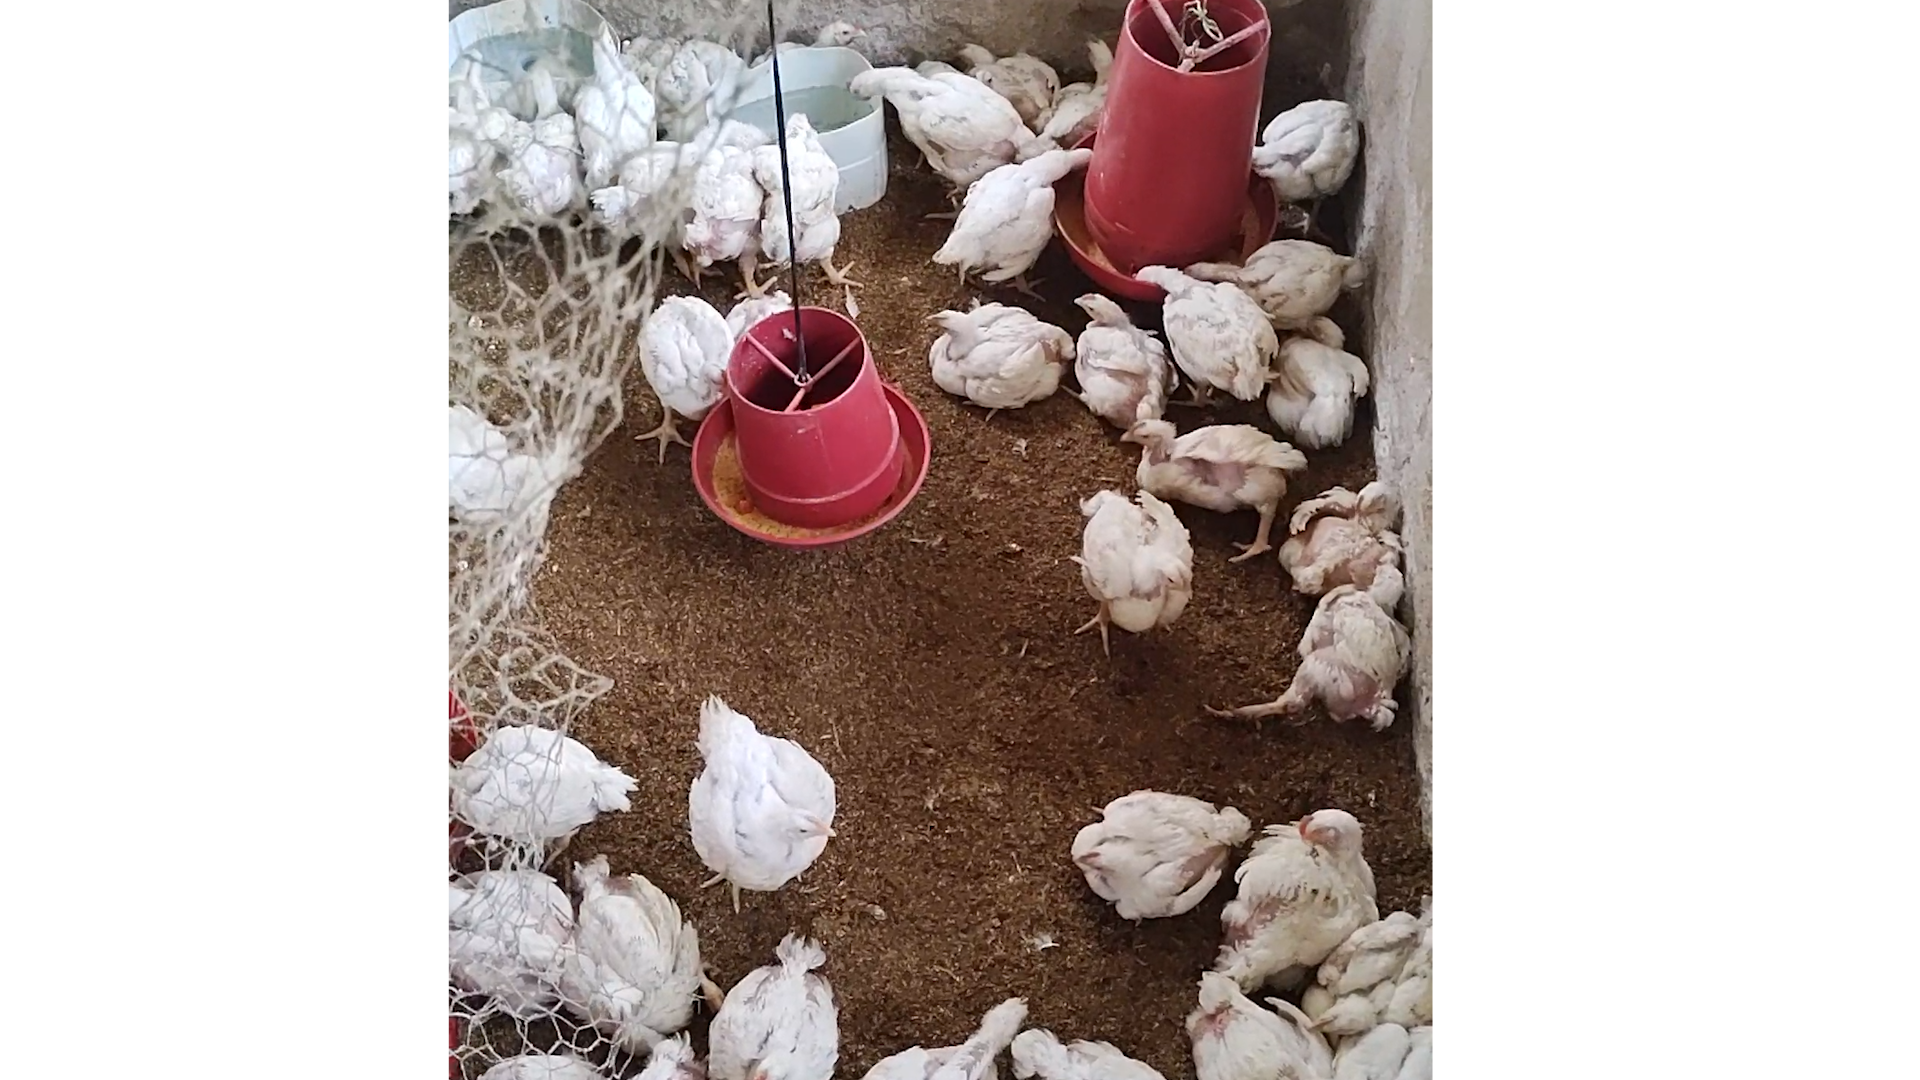Pollos: (1212, 567, 1414, 748), (694, 684, 837, 905), (1060, 782, 1246, 928), (562, 858, 716, 1034), (442, 719, 637, 857), (928, 136, 1100, 291), (1221, 796, 1373, 952), (1112, 402, 1294, 529), (1060, 488, 1200, 651), (837, 62, 1025, 183), (705, 916, 843, 1080), (756, 111, 876, 295), (1129, 261, 1273, 409), (1160, 957, 1320, 1080), (1316, 911, 1458, 1043), (678, 117, 785, 291), (920, 301, 1071, 422), (454, 866, 576, 1013), (640, 268, 731, 458), (1228, 94, 1369, 211), (1185, 243, 1369, 332), (874, 982, 1029, 1080), (574, 18, 665, 178), (1071, 282, 1164, 436), (1274, 320, 1385, 444), (600, 132, 698, 272), (508, 55, 575, 255), (448, 44, 530, 202), (1284, 477, 1411, 574), (1039, 25, 1131, 156), (942, 40, 1059, 120), (785, 15, 891, 65)
